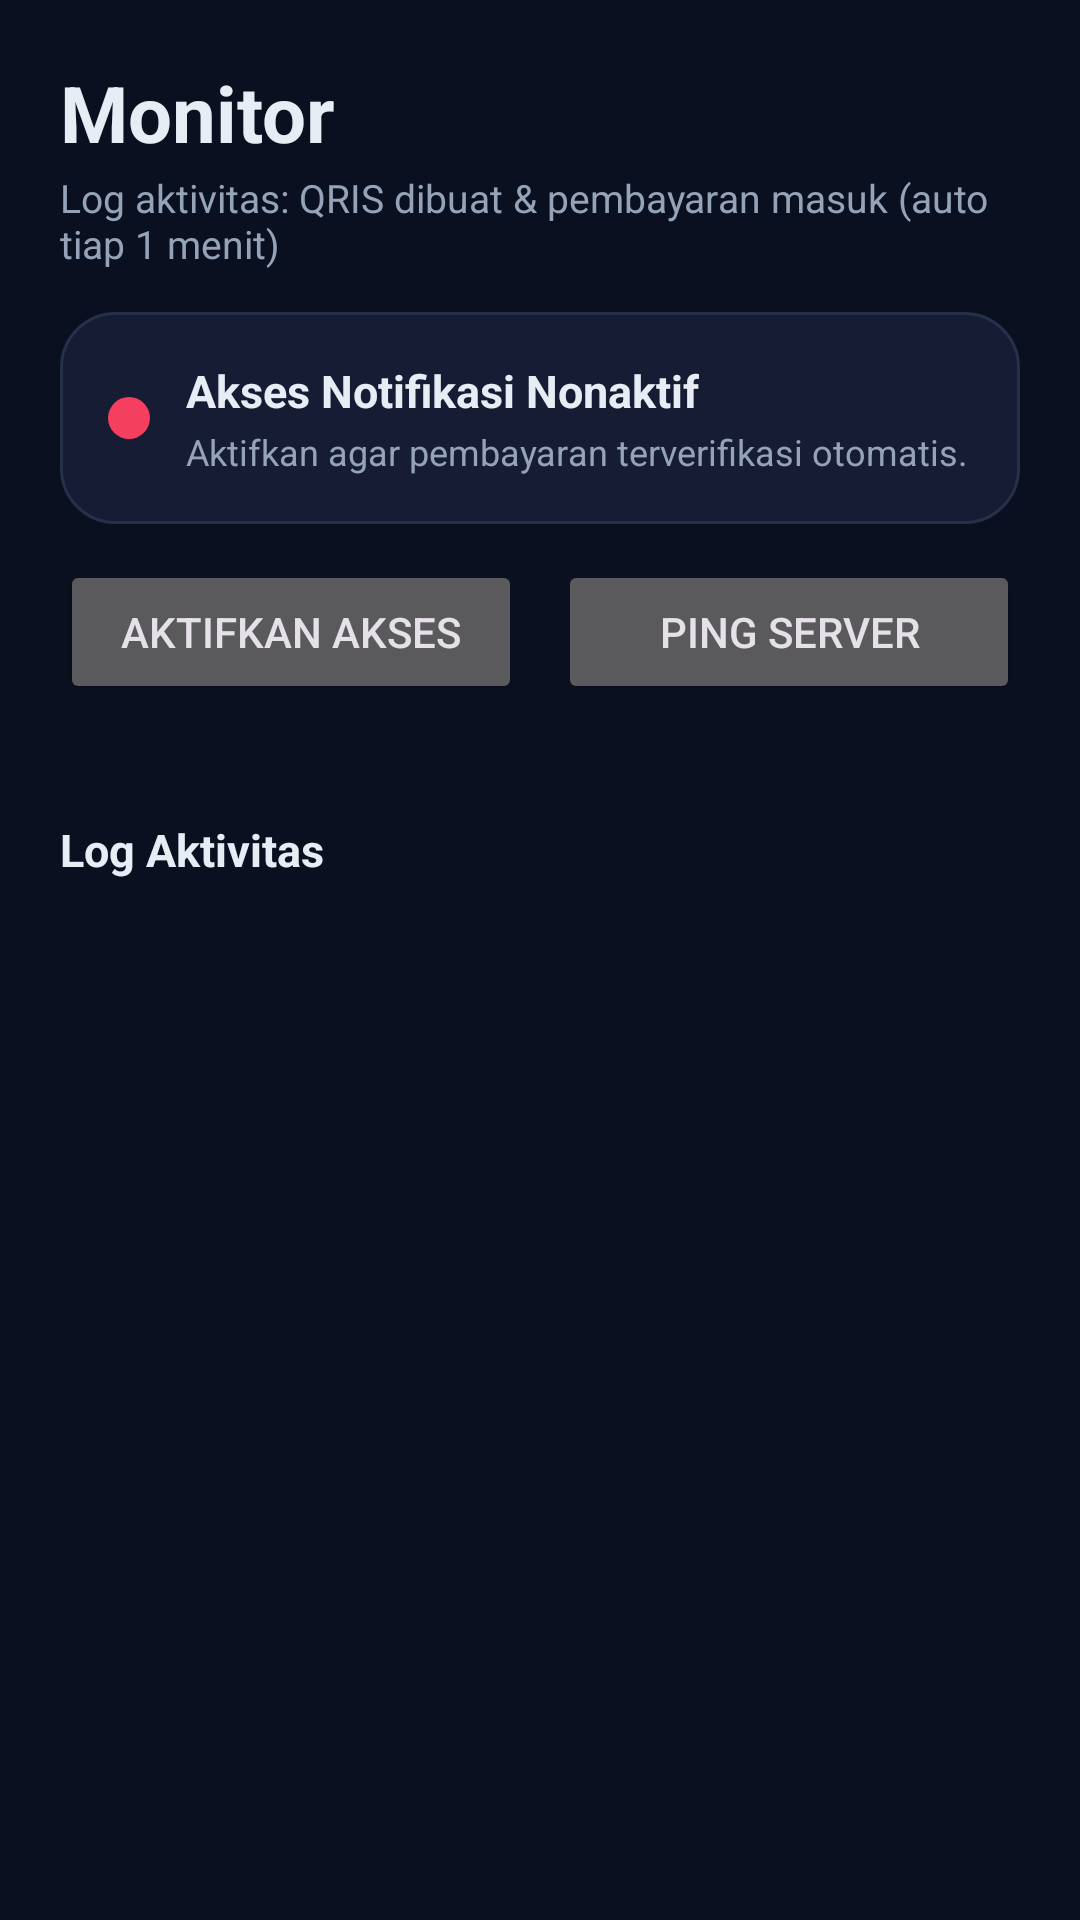

Icon bounding boxes for this 1080px x 1920px phone screenshot, format (x1,y1,x2,y2):
dot off: (108,397,150,439)
